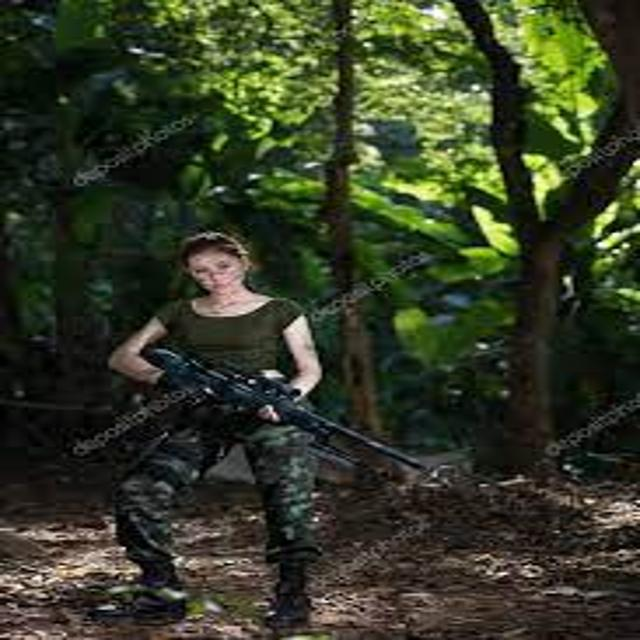gun: (113, 318, 458, 521)
poacher: (49, 215, 393, 638)
